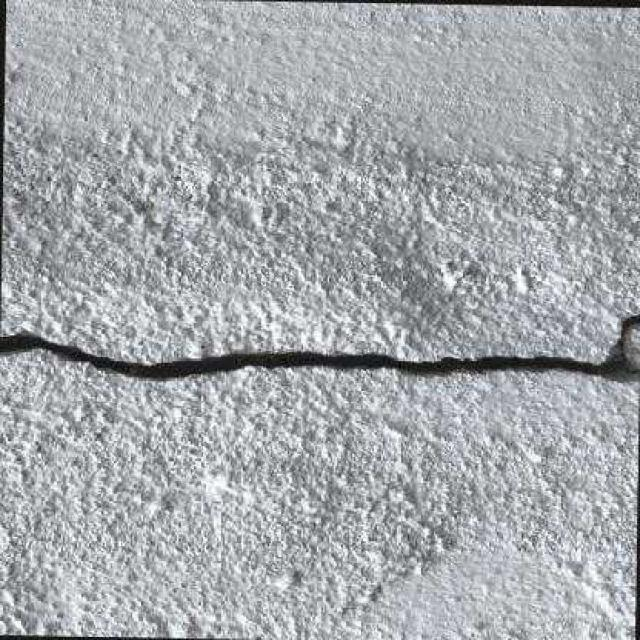D00: (0, 302, 640, 384)
